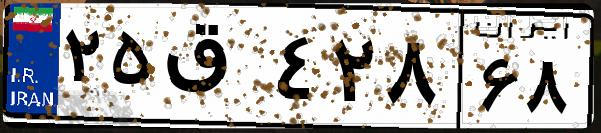2: (330, 28, 385, 110), (57, 26, 110, 100)
4: (270, 28, 330, 110)
5: (110, 28, 158, 98)
6: (475, 38, 525, 113)
8: (385, 28, 445, 110), (525, 38, 570, 115)
ق: (158, 20, 270, 120)
